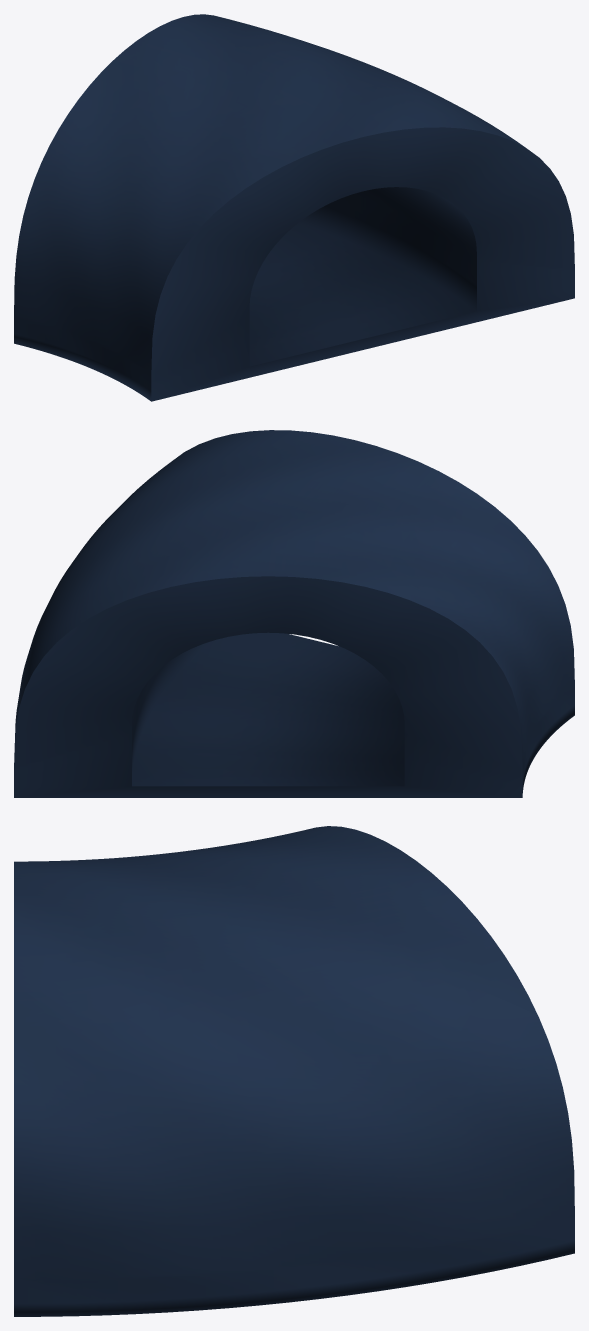
File: curve_left_30_terrain.glb
3 renders of one model, top to bottom at view 1: azimuth 30°, elevation 25°; view 2: azimuth 150°, elevation 25°; view 3: azimuth 270°, elevation 25°, orthographic. The views are drawn at different scales.
Visible parts, largest first — view 1: TerrainRoof.006; view 2: TerrainRoof.006; view 3: TerrainRoof.006.
Boxes of the visible parts, x1=… form: TerrainRoof.006: x1=14, y1=14, x2=574, y2=401; TerrainRoof.006: x1=14, y1=430, x2=574, y2=797; TerrainRoof.006: x1=14, y1=826, x2=574, y2=1316.
Size of the model in its own units: 31.32 by 13.65 by 25.1.
